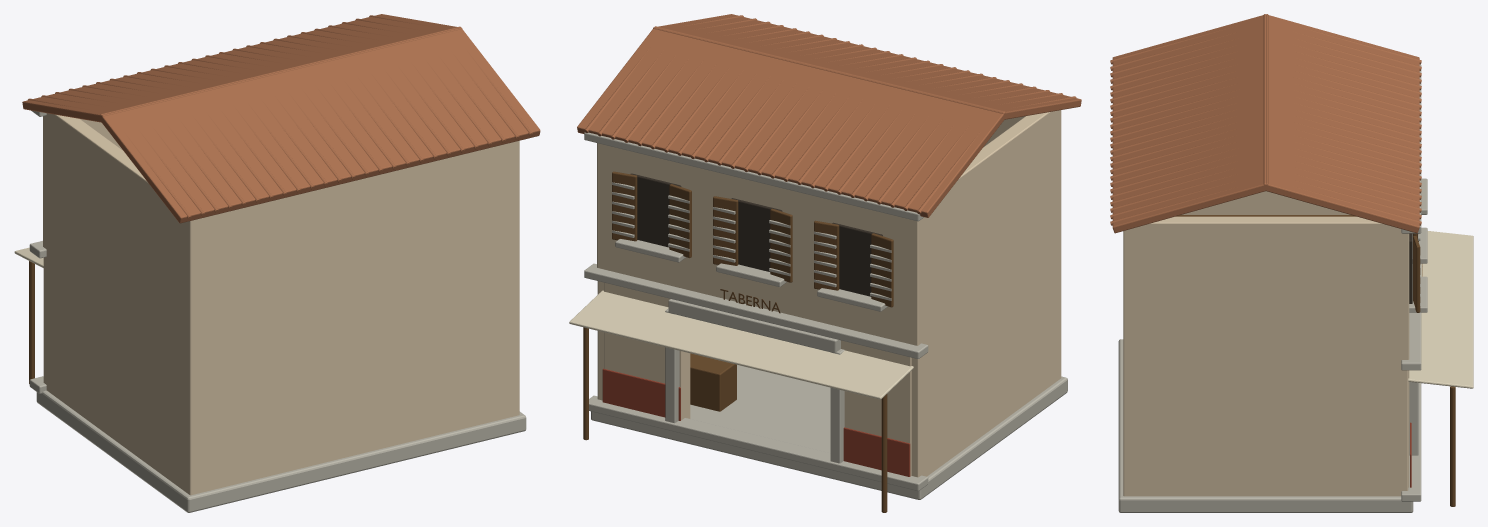
File: RomanInsula.glb
3 renders of one model, left to right at view 1: azimuth 30°, elevation 25°; view 2: azimuth 150°, elevation 25°; view 3: azimuth 270°, elevation 25°, orthographic. The views are drawn at different scales.
Visible parts, largest first — view 1: Rear masonry wall, Pitched terracotta roof, Side masonry wall, Pitched terracotta roof.001, Building foundation, Street upper facade, Shop awning post; view 2: Pitched terracotta roof.001, Side masonry wall, Street upper facade, Building foundation, Linen shop shade, Pitched terracotta roof, Facade cornice, Facade cornice.001, Street shop wall.001, Street shop wall, Facade cornice.002, Shop lintel (+20 smaller); view 3: Side masonry wall.001, Pitched terracotta roof, Pitched terracotta roof.001, Linen shop shade, Building foundation, Rear masonry wall, Street upper facade, Side masonry wall, Facade cornice, Facade cornice.001, Shop awning post.001, Door stone jamb.001 (+1 smaller).
Boxes of the visible parts, box(x1,y1,x2,y2) form: Rear masonry wall: box(182, 140, 519, 495); Pitched terracotta roof: box(99, 26, 540, 223); Side masonry wall: box(43, 113, 189, 491); Pitched terracotta roof.001: box(22, 14, 462, 122); Building foundation: box(36, 390, 526, 512); Street upper facade: box(43, 113, 122, 258); Shop awning post: box(29, 261, 34, 383); Pitched terracotta roof.001: box(577, 26, 1005, 217); Side masonry wall: box(911, 111, 1057, 477); Street upper facade: box(597, 143, 918, 345); Building foundation: box(591, 365, 1067, 499); Linen shop shade: box(569, 290, 913, 399); Pitched terracotta roof: box(653, 14, 1081, 119); Facade cornice: box(589, 395, 928, 490); Facade cornice.001: box(584, 263, 928, 358); Street shop wall.001: box(604, 282, 690, 420); Street shop wall: box(841, 340, 911, 476); Facade cornice.002: box(584, 132, 923, 221); Shop lintel: box(668, 299, 840, 353); Side masonry wall.001: box(1125, 216, 1408, 496); Pitched terracotta roof: box(1112, 14, 1268, 233); Pitched terracotta roof.001: box(1263, 14, 1419, 233); Linen shop shade: box(1408, 231, 1473, 388); Building foundation: box(1118, 339, 1413, 512); Rear masonry wall: box(1123, 227, 1139, 496); Street upper facade: box(1392, 226, 1409, 365); Side masonry wall: box(1182, 191, 1350, 214); Facade cornice: box(1401, 383, 1421, 501); Facade cornice.001: box(1401, 263, 1421, 370); Shop awning post.001: box(1450, 386, 1455, 506); Door stone jamb.001: box(1409, 382, 1418, 455).
Bounding box in the file's own units: 7.65 × 7.02 × 6.9.
